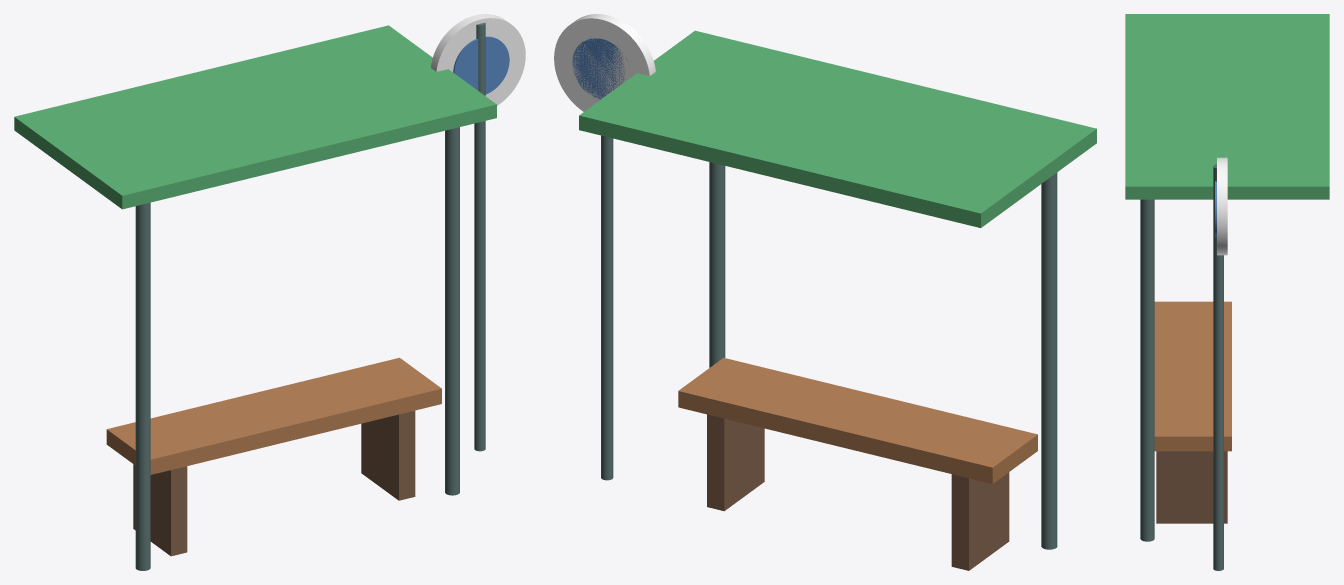
File: busstop.glb
3 renders of one model, left to right at view 1: azimuth 30°, elevation 25°; view 2: azimuth 150°, elevation 25°; view 3: azimuth 270°, elevation 25°, orthographic. The views are drawn at different scales.
Parts seen in each view (by area): view 1: roof, bench, postL, postR, signpole, benchlegR, sign, benchlegL, signcore; view 2: roof, bench, postL, sign, benchlegL, benchlegR, signpole, postR, signcore; view 3: roof, bench, postR, benchlegR, signpole, sign.
Boxes of the visible parts, bbox=[...] form: roof: bbox=[14, 25, 496, 209]; bench: bbox=[106, 357, 441, 474]; postL: bbox=[135, 202, 150, 570]; postR: bbox=[445, 127, 459, 495]; signpole: bbox=[474, 22, 485, 451]; benchlegR: bbox=[361, 410, 415, 500]; sign: bbox=[431, 14, 525, 105]; benchlegL: bbox=[133, 464, 187, 556]; signcore: bbox=[453, 36, 509, 94]; roof: bbox=[579, 30, 1096, 227]; bench: bbox=[678, 357, 1037, 483]; postL: bbox=[1041, 172, 1057, 549]; sign: bbox=[554, 14, 655, 111]; benchlegL: bbox=[951, 472, 1009, 570]; benchlegR: bbox=[707, 414, 764, 511]; signpole: bbox=[601, 135, 613, 480]; postR: bbox=[709, 162, 725, 367]; signcore: bbox=[572, 38, 627, 99]; roof: bbox=[1125, 14, 1329, 199]; bench: bbox=[1154, 301, 1231, 451]; postR: bbox=[1140, 199, 1154, 541]; benchlegR: bbox=[1156, 451, 1227, 523]; signpole: bbox=[1213, 164, 1223, 570]; sign: bbox=[1217, 157, 1227, 255].
Bounding box in the file's own units: 2.78 × 2.53 × 1.15.
